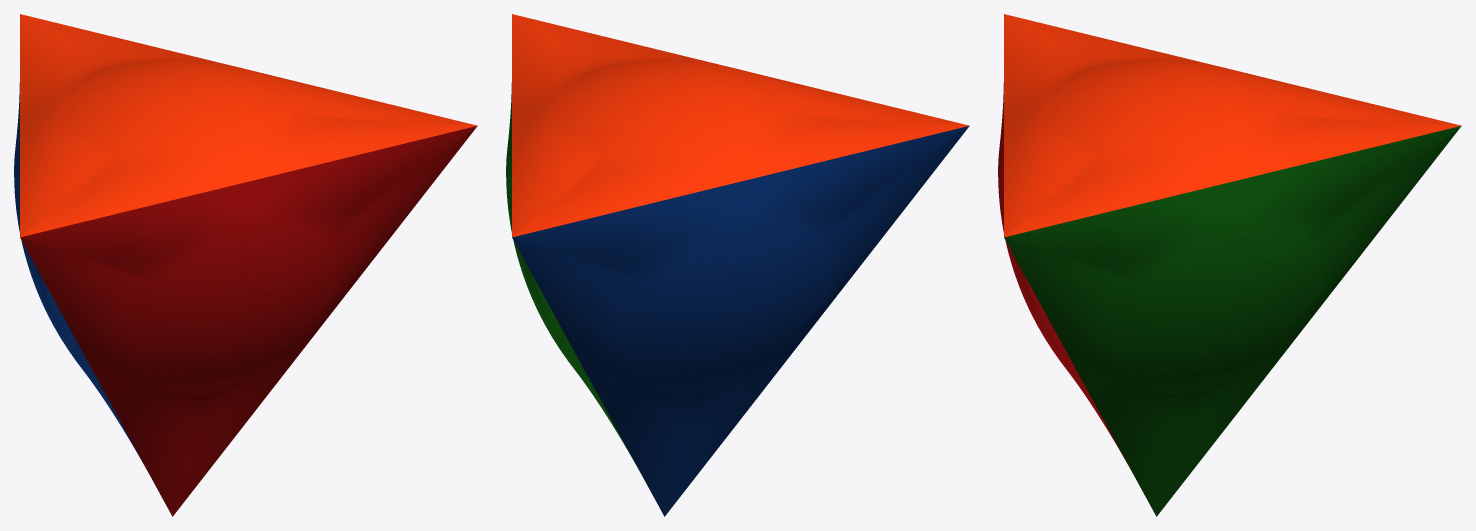
File: 1_1_1_1_tetrahedron.obj
The picture shows the model from 3 angles, left to right: view 1: azimuth 30°, elevation 25°; view 2: azimuth 150°, elevation 25°; view 3: azimuth 270°, elevation 25°; orthographic projection.
Parts seen in each view (by area): view 1: Level_1_-_level_1_front_Level_1_-_level_1_front.002, Level_1_-_level_1_top_Level_1_-_level_1_top.002, Level_1_-_level_1_left_Level_1_-_level_1_left.002; view 2: Level_1_-_level_1_left_Level_1_-_level_1_left.002, Level_1_-_level_1_top_Level_1_-_level_1_top.002, Level_1_-_level_1_right_Level_1_-_level_1_right.002; view 3: Level_1_-_level_1_right_Level_1_-_level_1_right.002, Level_1_-_level_1_top_Level_1_-_level_1_top.002, Level_1_-_level_1_front_Level_1_-_level_1_front.002.
Part boxes in pixels (left/top/right/bottom): Level_1_-_level_1_front_Level_1_-_level_1_front.002: left=20, top=126, right=477, bottom=516; Level_1_-_level_1_top_Level_1_-_level_1_top.002: left=20, top=14, right=476, bottom=237; Level_1_-_level_1_left_Level_1_-_level_1_left.002: left=14, top=82, right=143, bottom=463; Level_1_-_level_1_left_Level_1_-_level_1_left.002: left=512, top=126, right=969, bottom=516; Level_1_-_level_1_top_Level_1_-_level_1_top.002: left=512, top=14, right=968, bottom=237; Level_1_-_level_1_right_Level_1_-_level_1_right.002: left=506, top=82, right=635, bottom=463; Level_1_-_level_1_right_Level_1_-_level_1_right.002: left=1004, top=126, right=1461, bottom=516; Level_1_-_level_1_top_Level_1_-_level_1_top.002: left=1004, top=14, right=1460, bottom=237; Level_1_-_level_1_front_Level_1_-_level_1_front.002: left=998, top=83, right=1127, bottom=463.
Size of the model in its own units: 0.1 by 0.0894 by 0.0877.
